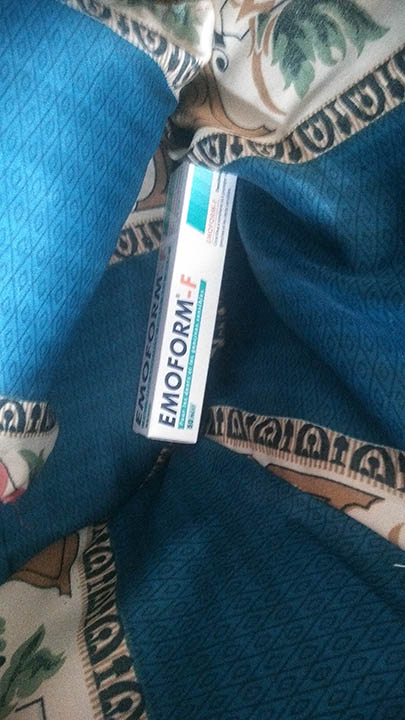Toothpaste-F 1.5$: (115, 164, 253, 462)
